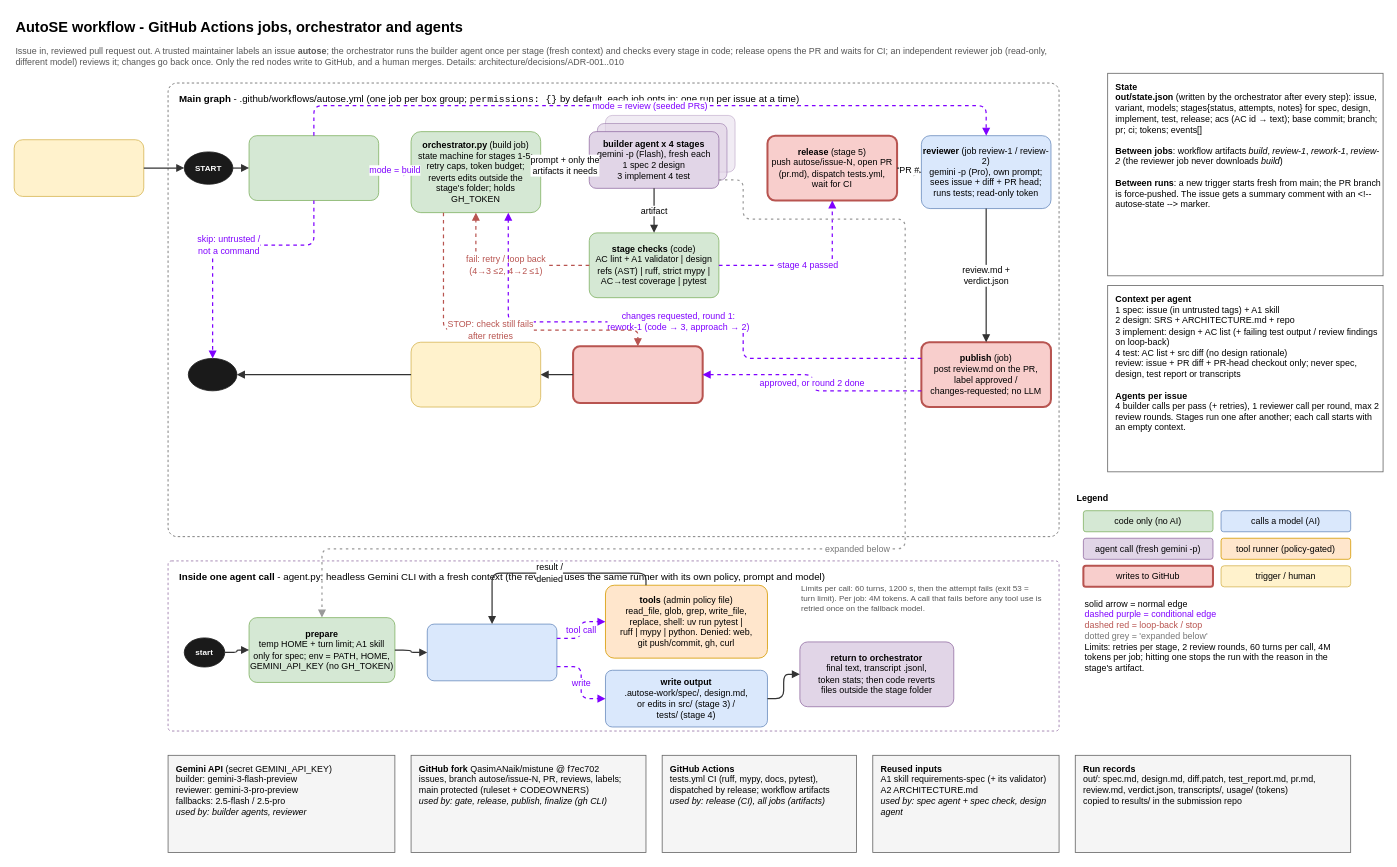
This 1397x867 diagram has some shape labels left out. The shapes that lost their labels are listed below. From the top down, each one's box as (x1, y1, x2, y2) in pixels, then its label:
(13, 139, 144, 196): Issue #N or PR label autose , comment /autose or /autose review
(248, 135, 379, 200): gate (job) trusted author? which mode? event read from file; no secrets, no LLM
(188, 358, 237, 391): END
(410, 341, 541, 407): Human decides merge or close the PR (the bot never merges)
(572, 345, 703, 404): finalize (job, always) summary comment + label done | needs-human | failed
(426, 623, 557, 681): model choose next tool or finish (stream-json events logged)
